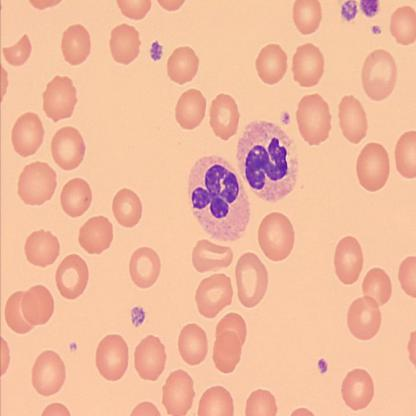Segmented neutrophil: (186, 116, 299, 243)
